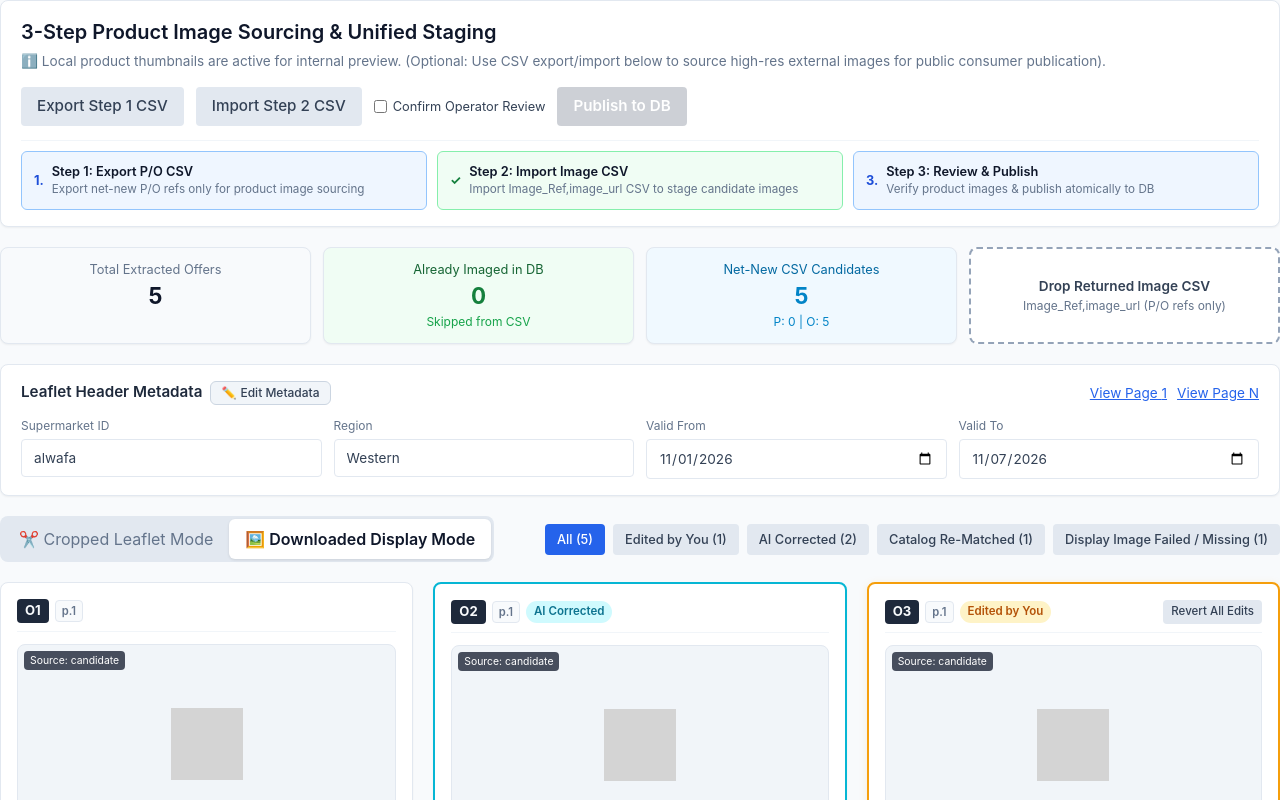
Test case: StagedLeafletPreviewPanel (WIFRAN-07J Phase 3) › enforces confirmation checkbox gating for Publish to DB and renders summary banner upon completion
Expected: the button with test id "staged-publish-db-btn" is disabled, x1=557 y1=87 x2=687 y2=126
// Check operator confirmation
Click the checkbox with test id "operator-confirm-publish-checkbox": (380, 107) x1=374 y1=100 x2=387 y2=113
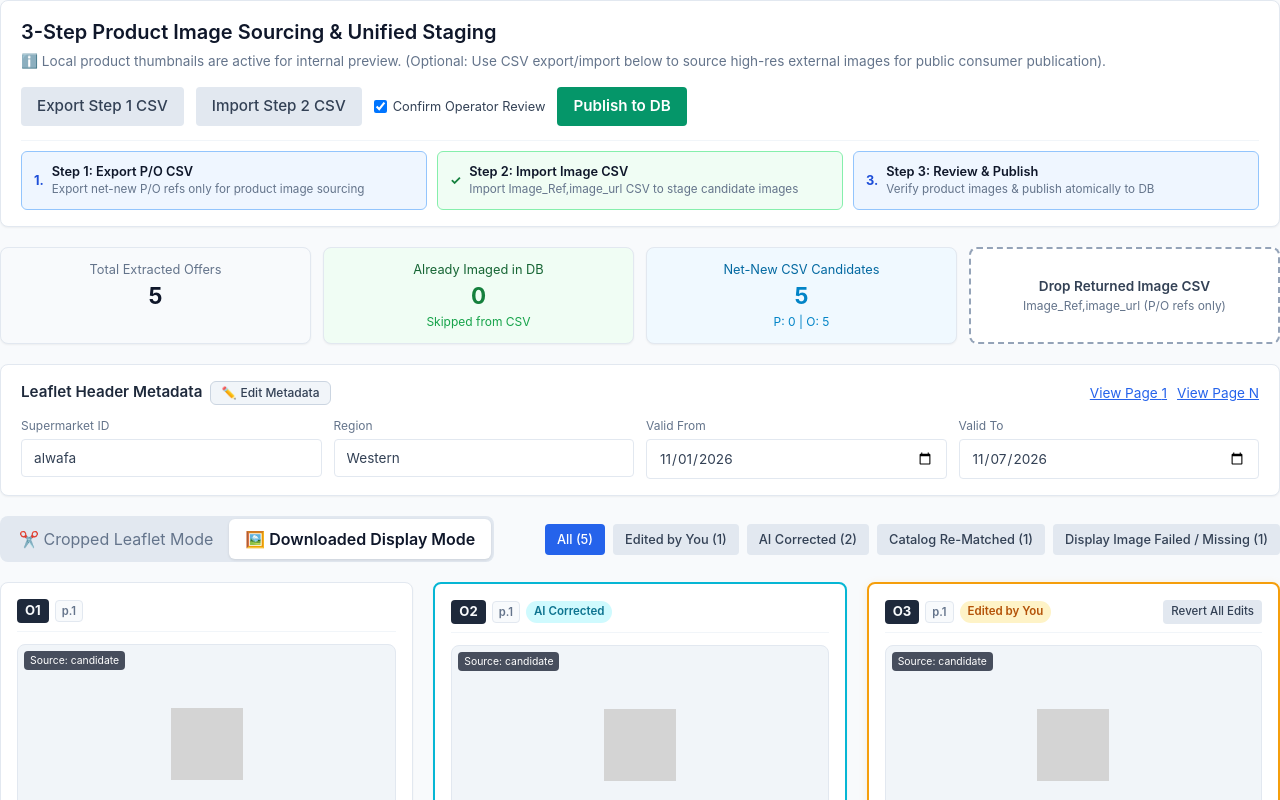
Now the checkbox with test id "operator-confirm-publish-checkbox" is checked, box x1=374 y1=100 x2=387 y2=113
Now the button with test id "staged-publish-db-btn" is enabled
// Click Publish to DB
Click the button with test id "staged-publish-db-btn": (622, 107) x1=557 y1=87 x2=687 y2=126
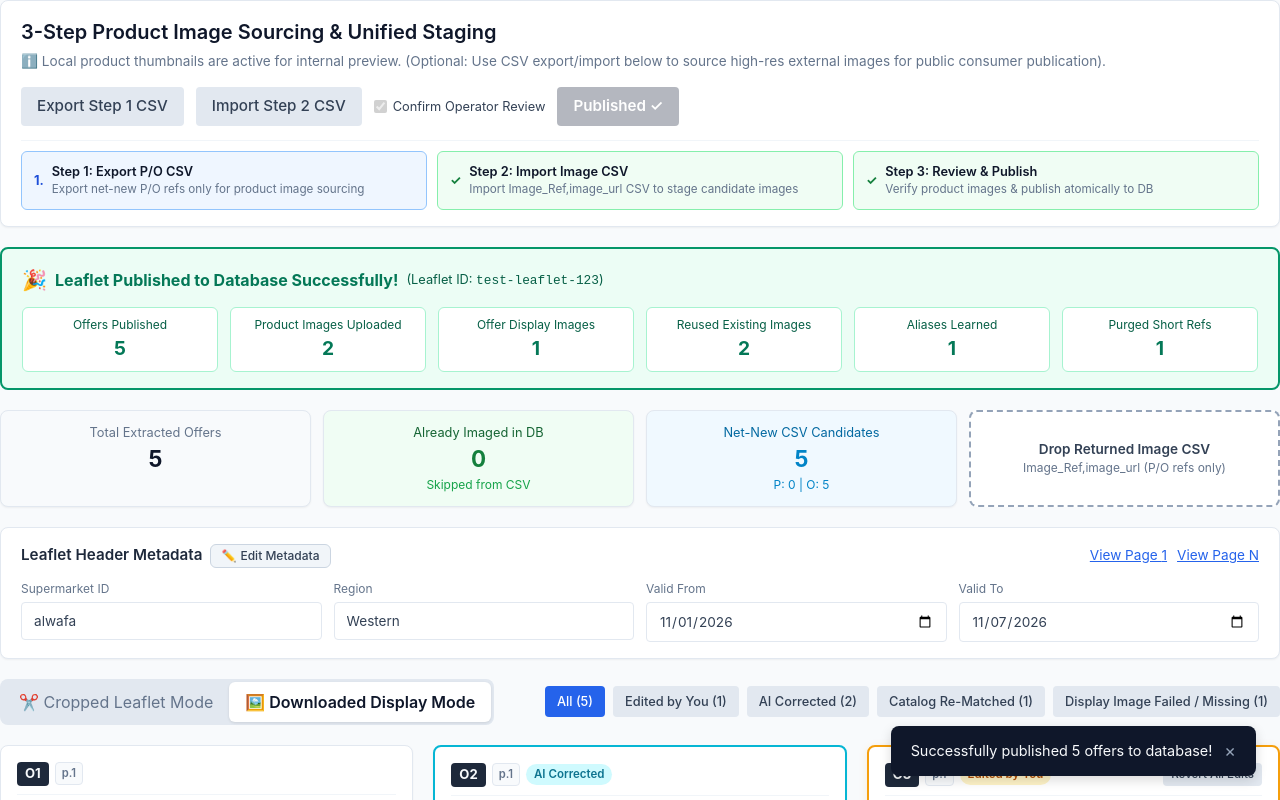
Now the message with test id "published-summary-banner" is shown, box x1=0 y1=247 x2=1279 y2=390
Now the text "Leaflet Published to Database Successfully!" is shown, box x1=55 y1=268 x2=398 y2=292
Now the text "5" below "Offers Published" is shown, box x1=114 y1=336 x2=126 y2=360
